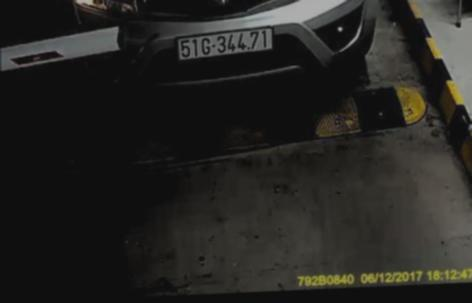License_Plate: (173, 26, 279, 59)
